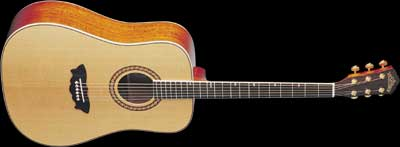guitar: (1, 1, 400, 146)
